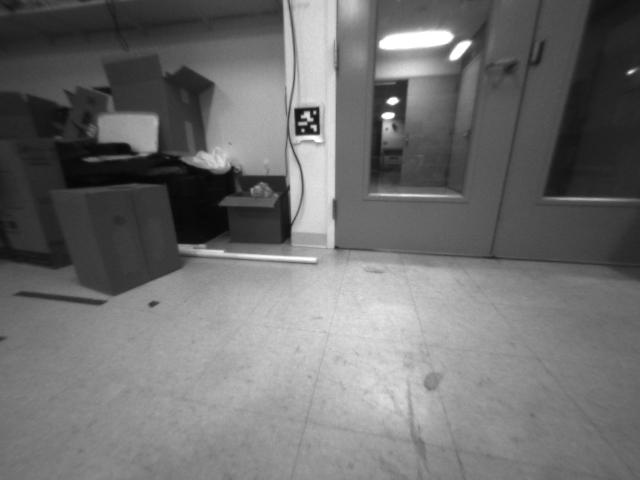door_handle: (481, 55, 520, 73)
